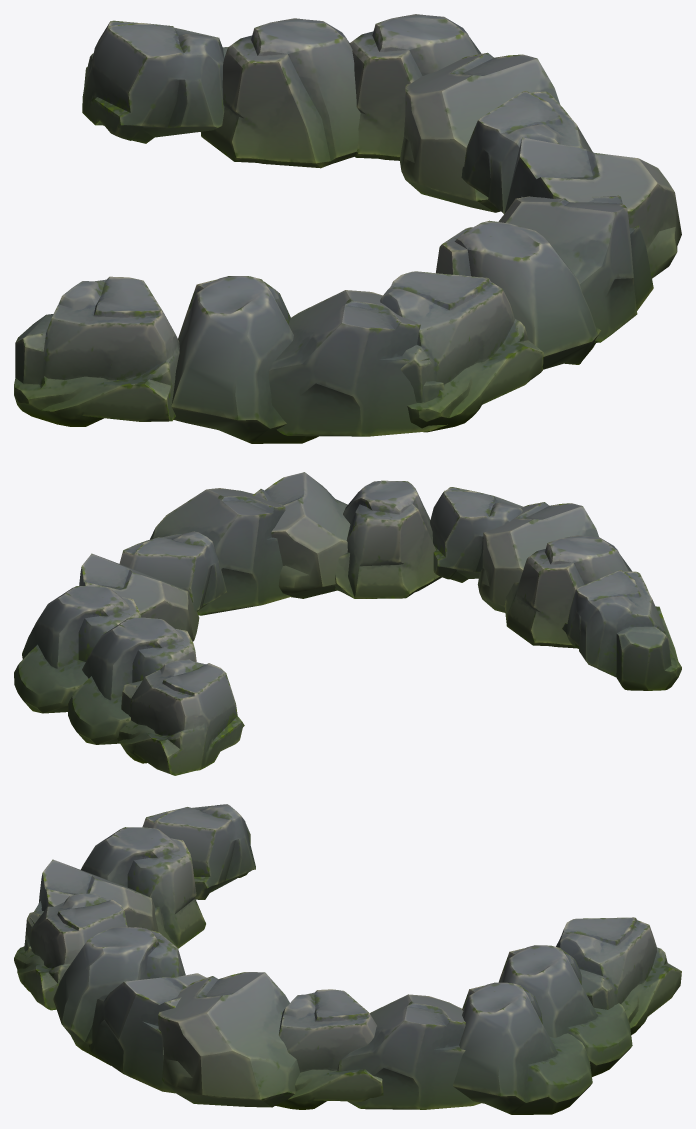
The model's file is Hextilestone_corner.glb.
The picture shows the model from 3 angles, top to bottom: view 1: azimuth 30°, elevation 25°; view 2: azimuth 150°, elevation 25°; view 3: azimuth 270°, elevation 25°; orthographic projection. The views are drawn at different scales.
Parts seen in each view (by area): view 1: Rock_Medium_3.002, Rock_Medium_1.004, Rock_Medium_2.002, Rock_Medium_3.001, Rock_Medium_1.002, Rock_Medium_3.004, Rock_Medium_2.001, Rock_Medium_1.001, Rock_Medium_2.003, Rock_Medium_2, Rock_Medium_1, Rock_Medium_3; view 2: Rock_Medium_3.004, Rock_Medium_3.002, Rock_Medium_1.001, Rock_Medium_2, Rock_Medium_1, Rock_Medium_1.004, Rock_Medium_1.002, Rock_Medium_2.003, Rock_Medium_2.002, Rock_Medium_3.001, Rock_Medium_3, Rock_Medium_2.001; view 3: Rock_Medium_2, Rock_Medium_1, Rock_Medium_2.001, Rock_Medium_3, Rock_Medium_3.004, Rock_Medium_1.004, Rock_Medium_1.002, Rock_Medium_1.001, Rock_Medium_2.003, Rock_Medium_3.001, Rock_Medium_3.002, Rock_Medium_2.002.
Part boxes in pixels (x1=…): Rock_Medium_3.002: x1=14, y1=276, x2=179, y2=426; Rock_Medium_1.004: x1=201, y1=18, x2=360, y2=168; Rock_Medium_2.002: x1=268, y1=290, x2=447, y2=436; Rock_Medium_3.001: x1=380, y1=271, x2=543, y2=432; Rock_Medium_1.002: x1=171, y1=276, x2=318, y2=443; Rock_Medium_3.004: x1=82, y1=20, x2=228, y2=143; Rock_Medium_2.001: x1=399, y1=52, x2=559, y2=212; Rock_Medium_1.001: x1=436, y1=220, x2=600, y2=369; Rock_Medium_2.003: x1=498, y1=195, x2=653, y2=342; Rock_Medium_2: x1=504, y1=137, x2=681, y2=278; Rock_Medium_1: x1=349, y1=14, x2=481, y2=160; Rock_Medium_3: x1=461, y1=91, x2=592, y2=213; Rock_Medium_3.004: x1=117, y1=659, x2=244, y2=775; Rock_Medium_3.002: x1=562, y1=570, x2=681, y2=690; Rock_Medium_1.001: x1=335, y1=480, x2=441, y2=598; Rock_Medium_2: x1=150, y1=488, x2=291, y2=615; Rock_Medium_1: x1=14, y1=586, x2=140, y2=713; Rock_Medium_1.004: x1=68, y1=617, x2=196, y2=744; Rock_Medium_1.002: x1=504, y1=535, x2=632, y2=648; Rock_Medium_2.003: x1=252, y1=472, x2=350, y2=598; Rock_Medium_2.002: x1=477, y1=502, x2=598, y2=612; Rock_Medium_3.001: x1=430, y1=487, x2=523, y2=582; Rock_Medium_3: x1=119, y1=531, x2=227, y2=611; Rock_Medium_2.001: x1=79, y1=553, x2=199, y2=641; Rock_Medium_2: x1=158, y1=972, x2=299, y2=1107; Rock_Medium_1: x1=453, y1=982, x2=592, y2=1114; Rock_Medium_2.001: x1=337, y1=994, x2=481, y2=1109; Rock_Medium_3: x1=275, y1=989, x2=383, y2=1109; Rock_Medium_3.004: x1=556, y1=917, x2=681, y2=1034; Rock_Medium_1.004: x1=498, y1=945, x2=632, y2=1076; Rock_Medium_1.002: x1=81, y1=827, x2=205, y2=948; Rock_Medium_1.001: x1=53, y1=927, x2=185, y2=1065; Rock_Medium_2.003: x1=89, y1=973, x2=206, y2=1093; Rock_Medium_3.001: x1=14, y1=893, x2=127, y2=1010; Rock_Medium_3.002: x1=142, y1=804, x2=255, y2=899; Rock_Medium_2.002: x1=24, y1=859, x2=158, y2=952.
Size of the model in its own units: 2.11 by 0.3994 by 2.3.
Materials: 5 (5 with a texture image).
